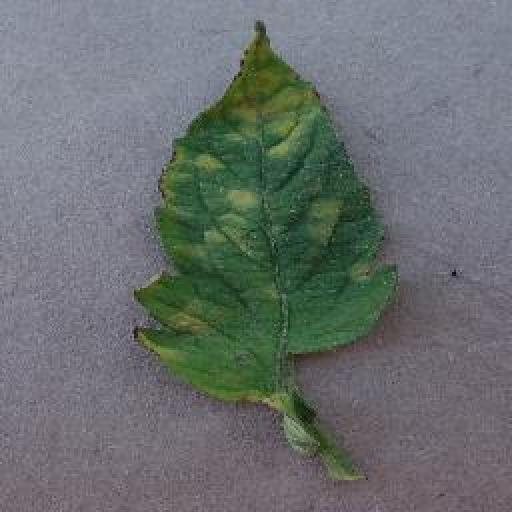disease_tomato: (130, 20, 400, 405)
